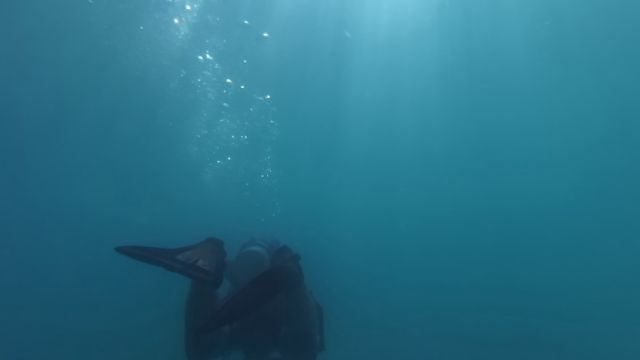Diver: (112, 214, 329, 356)
